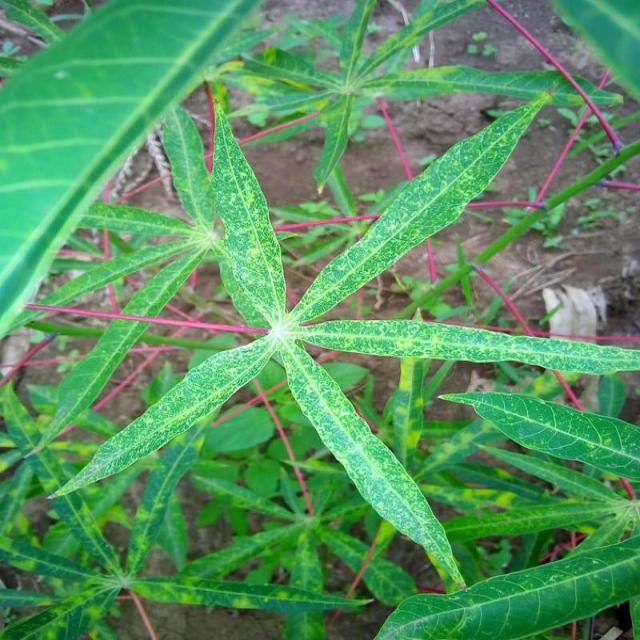cassava leaf: (38, 83, 638, 588), (0, 0, 262, 340), (436, 388, 639, 482)
